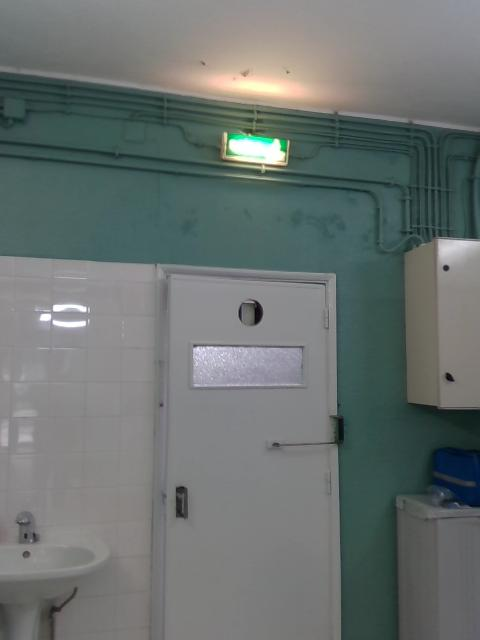closed_door: (154, 261, 334, 639)
